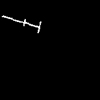double_crochet: (2, 16, 40, 32)
